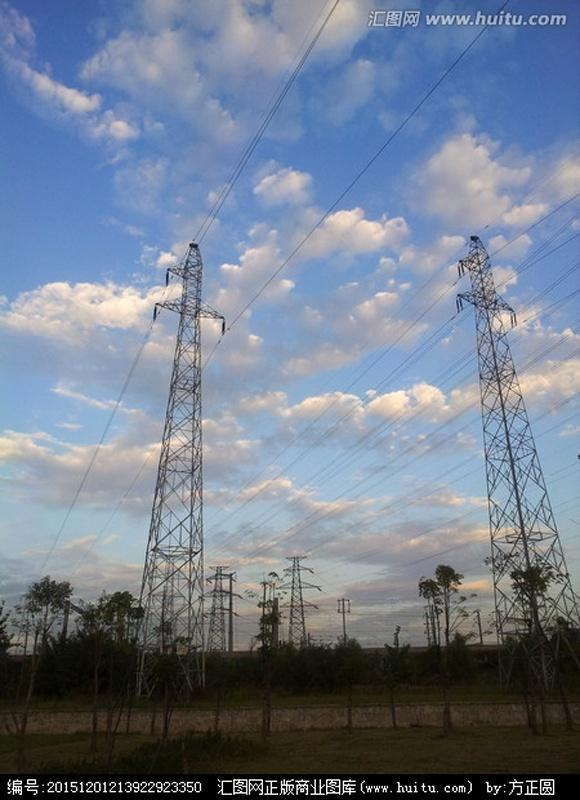power_tower: (453, 232, 580, 696), (127, 244, 227, 706), (270, 554, 322, 654), (189, 557, 242, 651), (13, 588, 42, 659)
